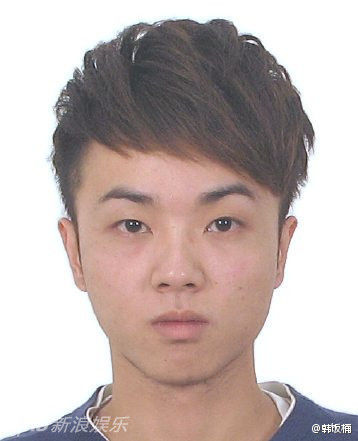unmask: (75, 153, 278, 369)
